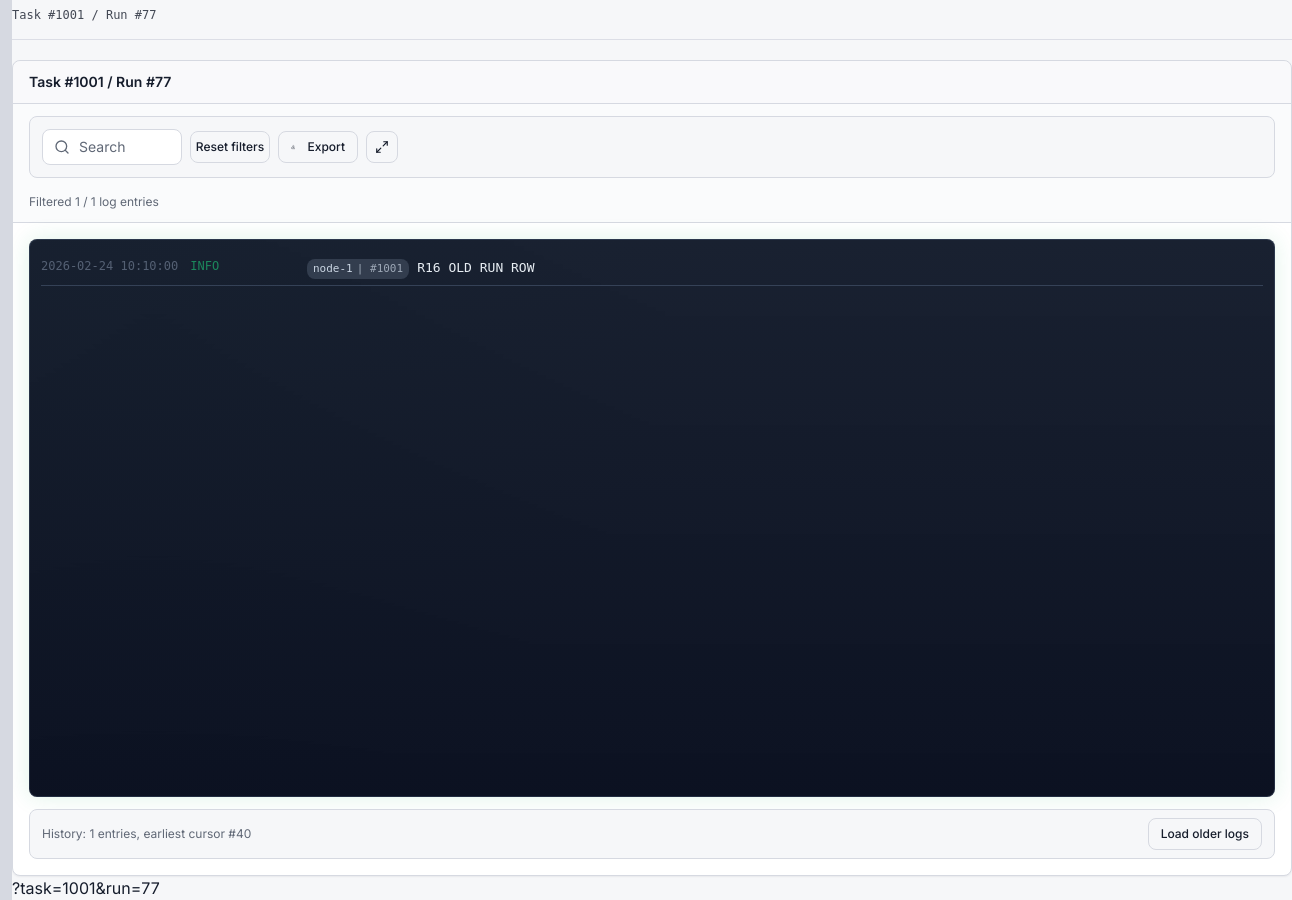
Test case: LogsPage exact run › 切换 Run 后旧分页 resolve 和 finally 不污染新 Run 或解锁新分页
The image size is (1292, 900).
(page scrolled)
Expected: the text "R16 OLD RUN ROW" is shown, x1=417 y1=260 x2=534 y2=274
Click the button "Load older logs" at (1205, 834), box x1=1148 y1=818 x2=1262 y2=850
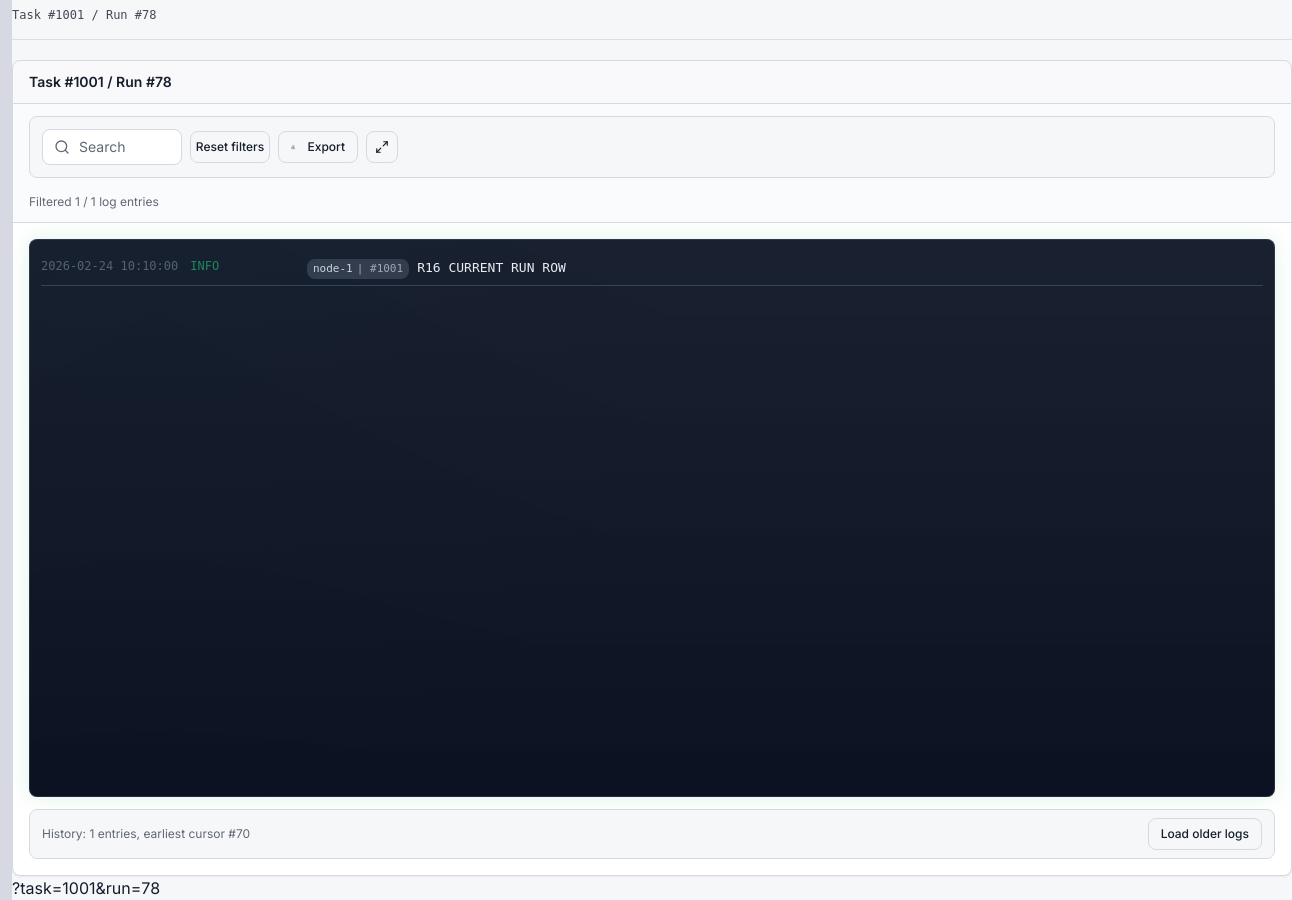
Expected: the text "R16 CURRENT RUN ROW" is shown, x1=417 y1=260 x2=566 y2=274
Click the button "Load older logs" at (1205, 834), box x1=1148 y1=818 x2=1262 y2=850
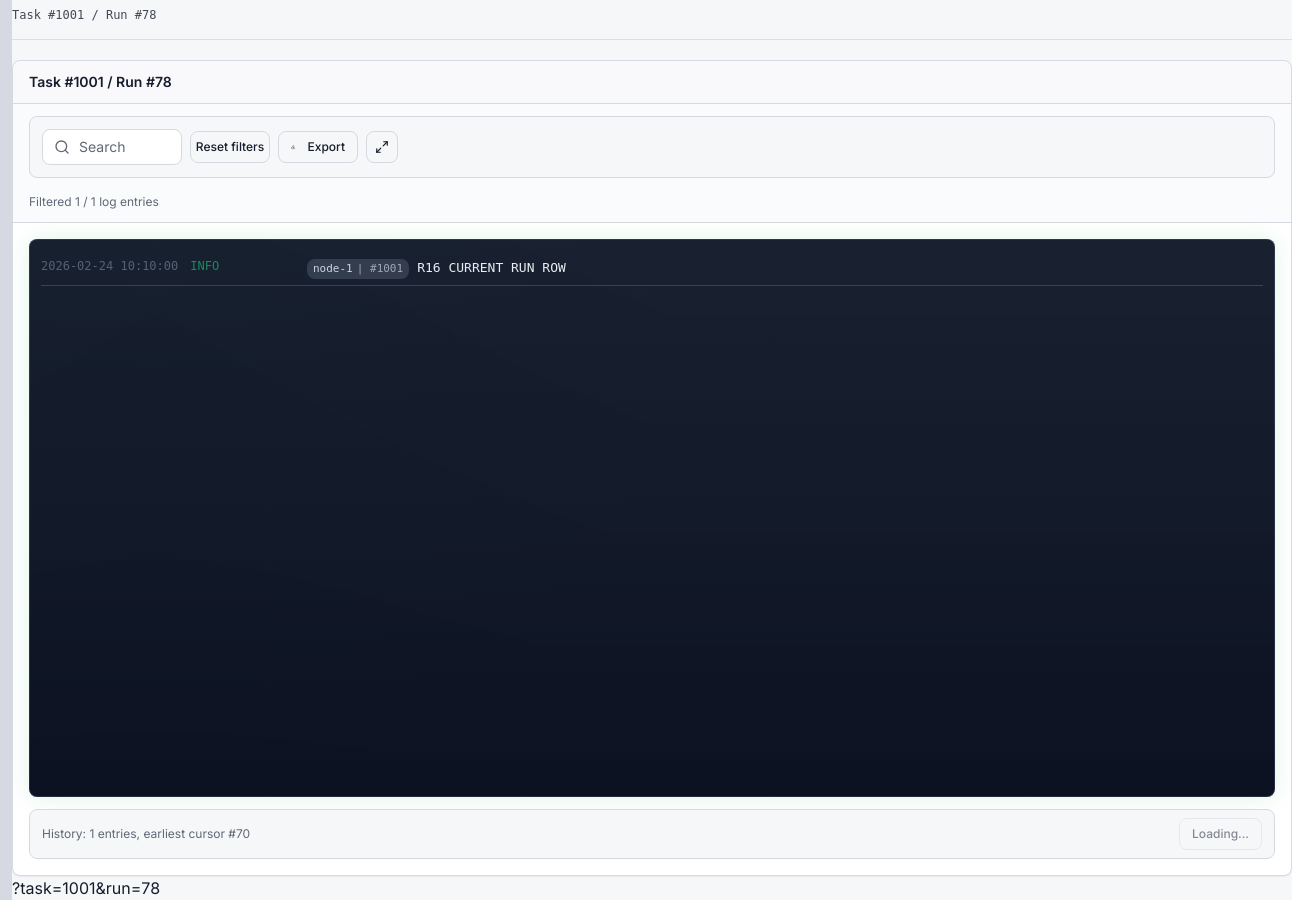
Expected: the text "R16 OLD RUN ROW" is not shown
Expected: the text "R16 CURRENT RUN ROW" is shown, x1=417 y1=260 x2=566 y2=274
Expected: the button "Loading..." is disabled
Click the button "Loading..." at (1220, 834), box x1=1179 y1=818 x2=1262 y2=850
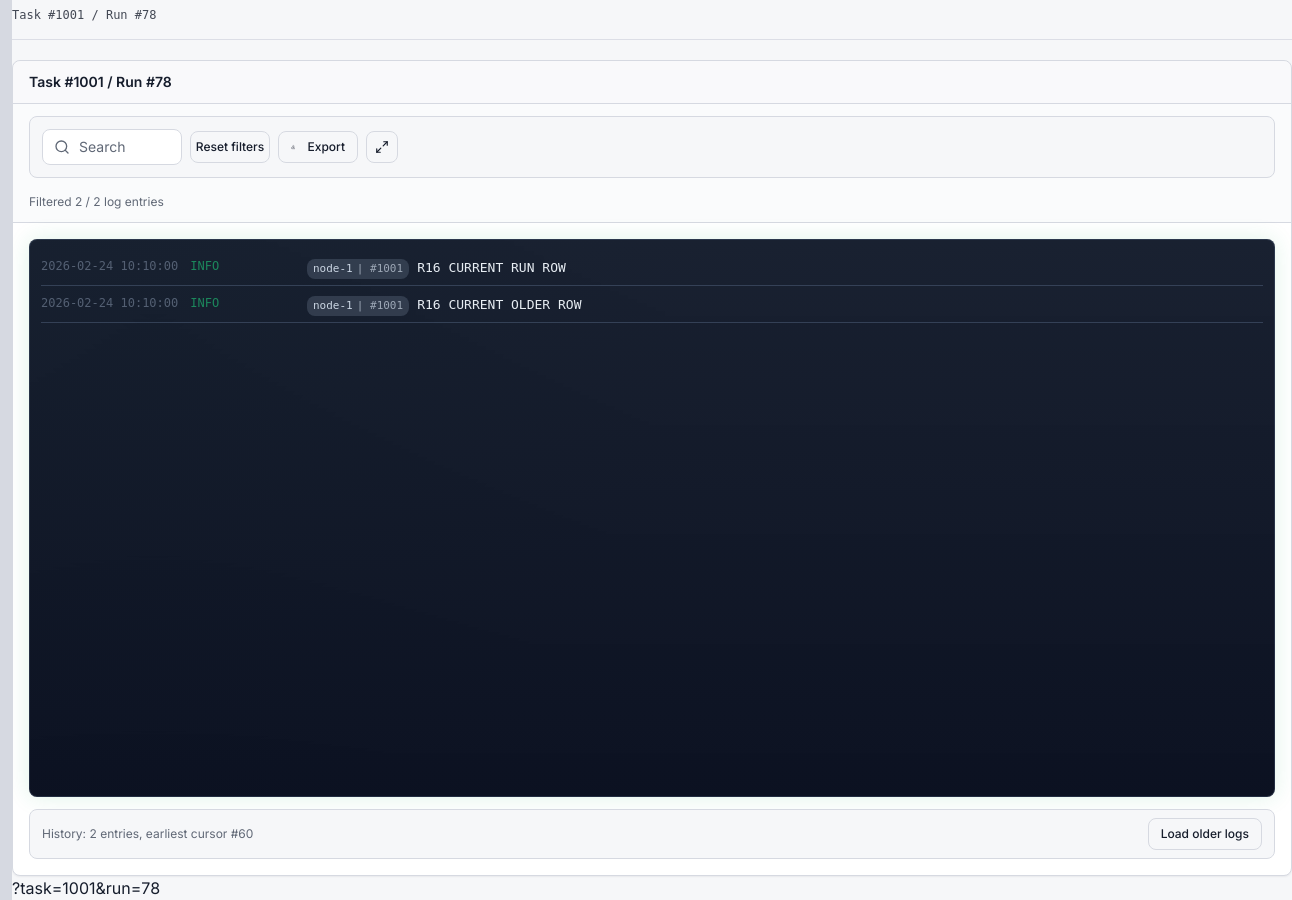
Expected: the text "R16 CURRENT OLDER ROW" is shown, x1=417 y1=296 x2=582 y2=312
Expected: the button "Load older logs" is enabled, x1=1148 y1=818 x2=1262 y2=850
